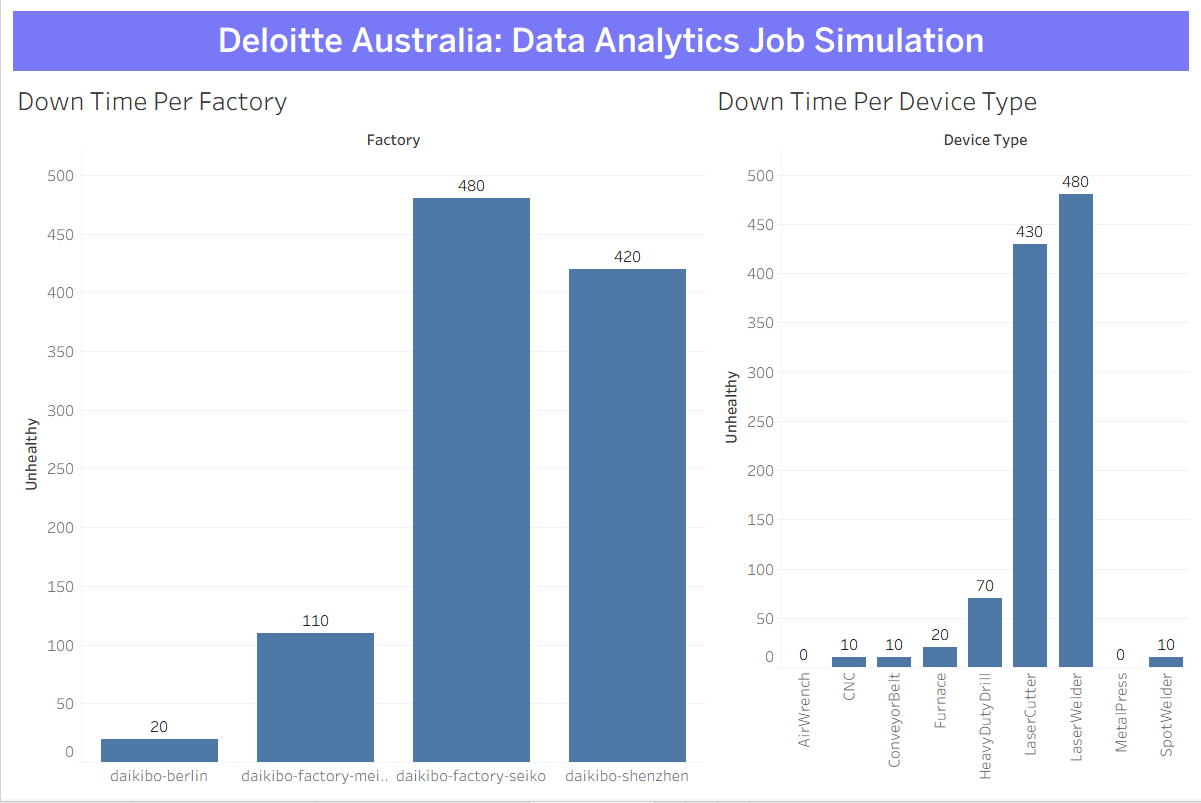

Layout of this report page (visuals, bound fields, positions):
{"tool":"tableau","page":{"name":"Dashboard 1","canvas":[1200,800],"ordinal":0},"visuals":[{"type":"title","box":[8,8,1184,68]},{"type":"worksheet","title":"Down Time Per Factory","mark":"Bar","rows":["Calculation_0965379514368000"],"cols":["factory"],"box":[8,76,700,716]},{"type":"worksheet","title":"Down Time Per Device Type","mark":"Automatic","rows":["Calculation_0965379514368000"],"cols":["deviceType"],"box":[708,76,484,716]}]}

Visuals, with their boxes in screenshot pixels (x1, y1, x2, y2), scaled from the page's 1200x800 canvas onto the 1201x803 screenshot:
title: 8,8,1193,76
"Down Time Per Factory" worksheet (Bar marks): 8,76,709,795
"Down Time Per Device Type" worksheet: 709,76,1193,795
